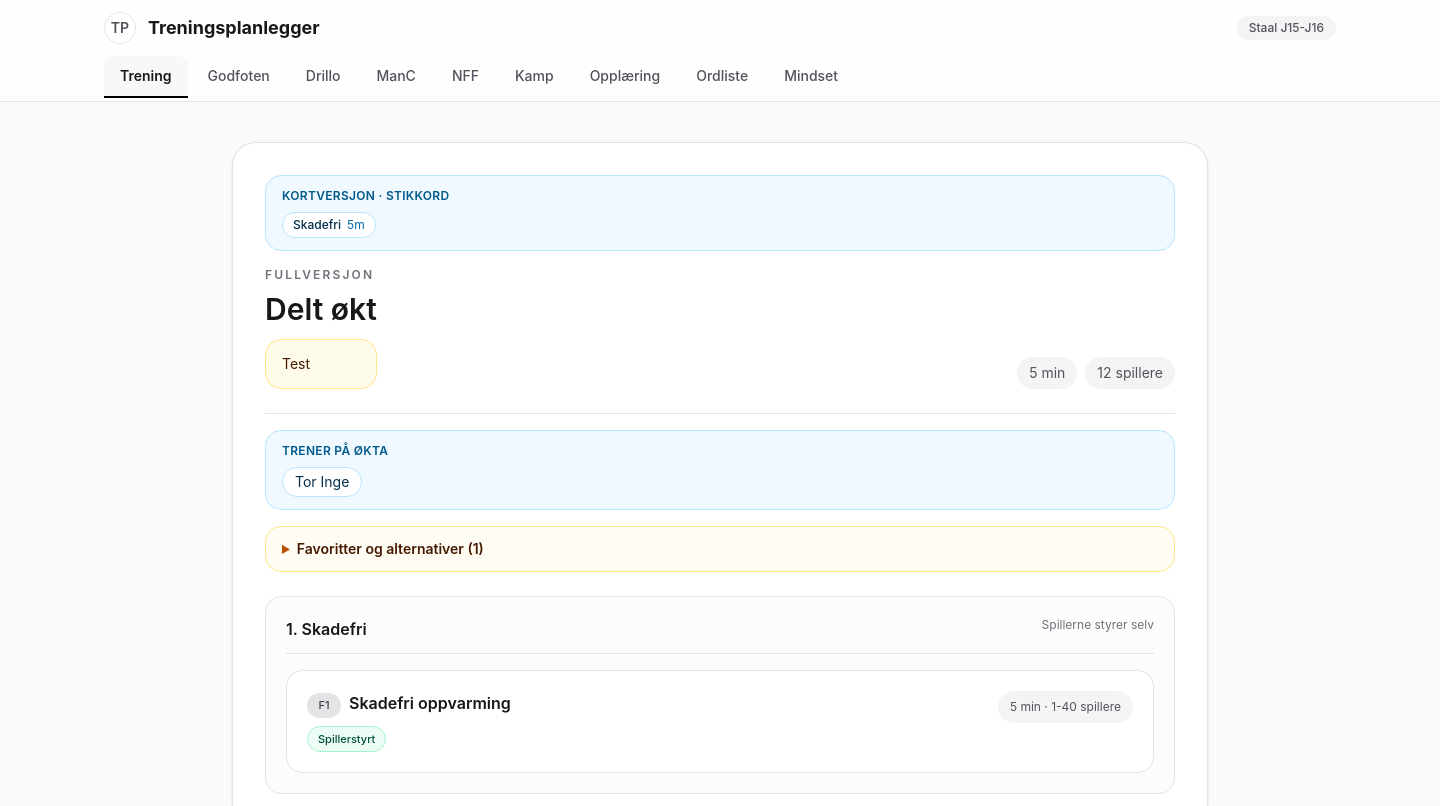
it: SharedSessionPage › reveals extra favorite details only after opening the favorite exercise
The image size is (1440, 806).
Click the heading "Favoritter og alternativer (1)". click: click(390, 548)
box: [297, 540, 484, 557]
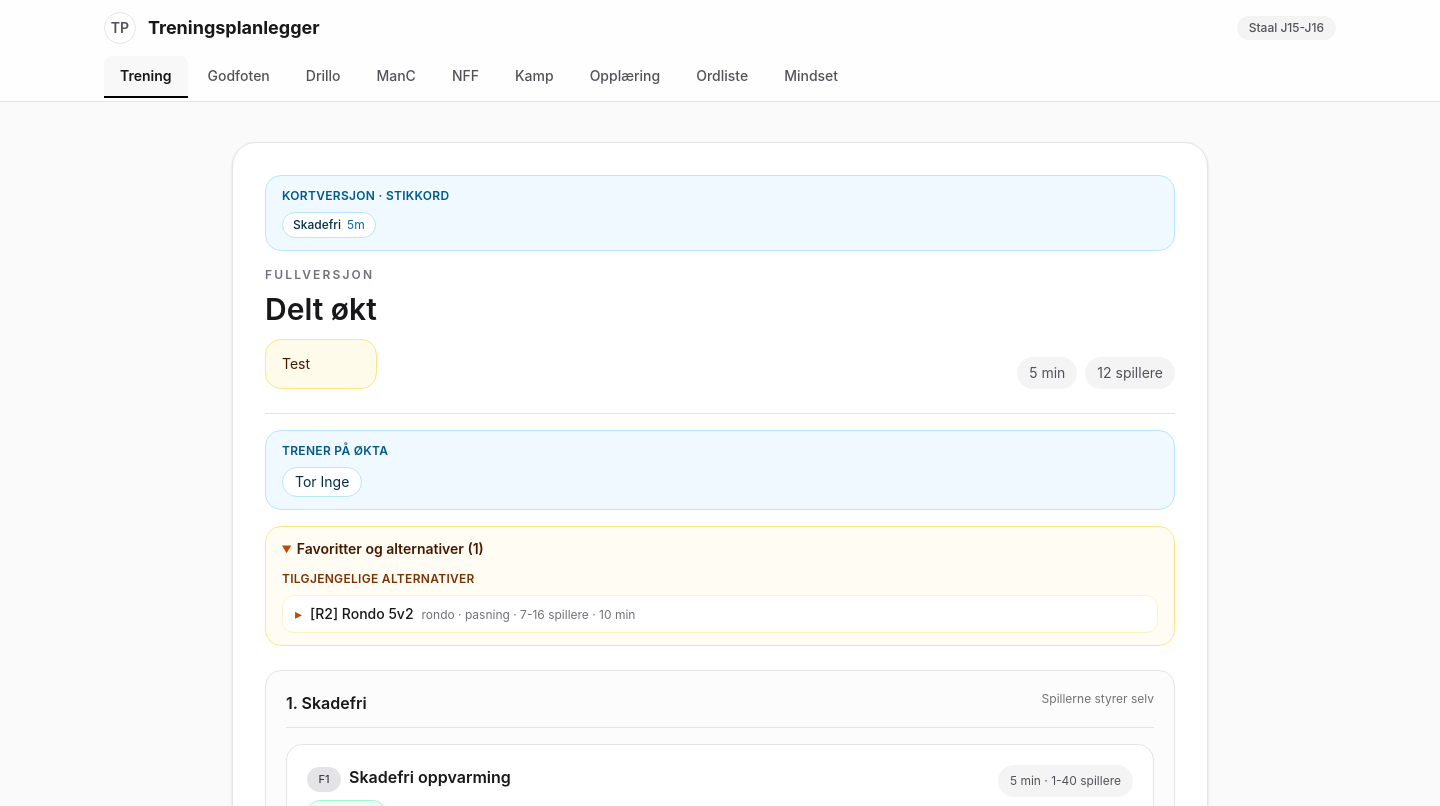
Expected: the text "Utstyr:" is not shown
Click the text "[R2] Rondo 5v2". click: click(362, 614)
box: [310, 604, 414, 624]
(page scrolled)
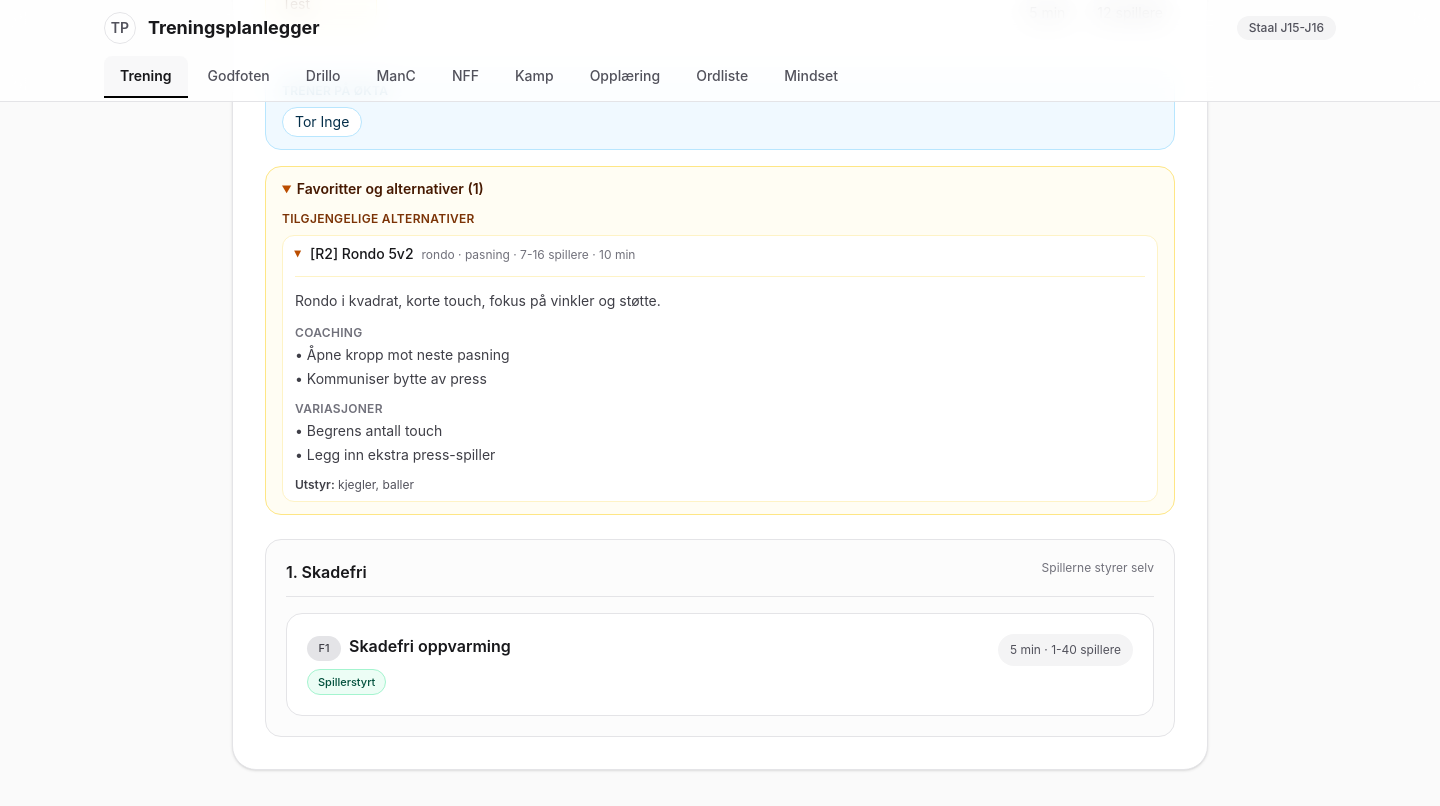
Expected: the text "Coaching" is shown, [295, 325, 362, 340]
Expected: the text "Variasjoner" is shown, [295, 401, 383, 416]
Expected: the text "Utstyr:" is shown, [295, 477, 335, 492]
